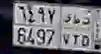4: (27, 7, 35, 45)
6: (16, 5, 26, 45)
7: (46, 6, 56, 47)
9: (35, 6, 46, 46)
D: (82, 15, 91, 48)
T: (72, 14, 81, 46)
V: (61, 12, 71, 47)
